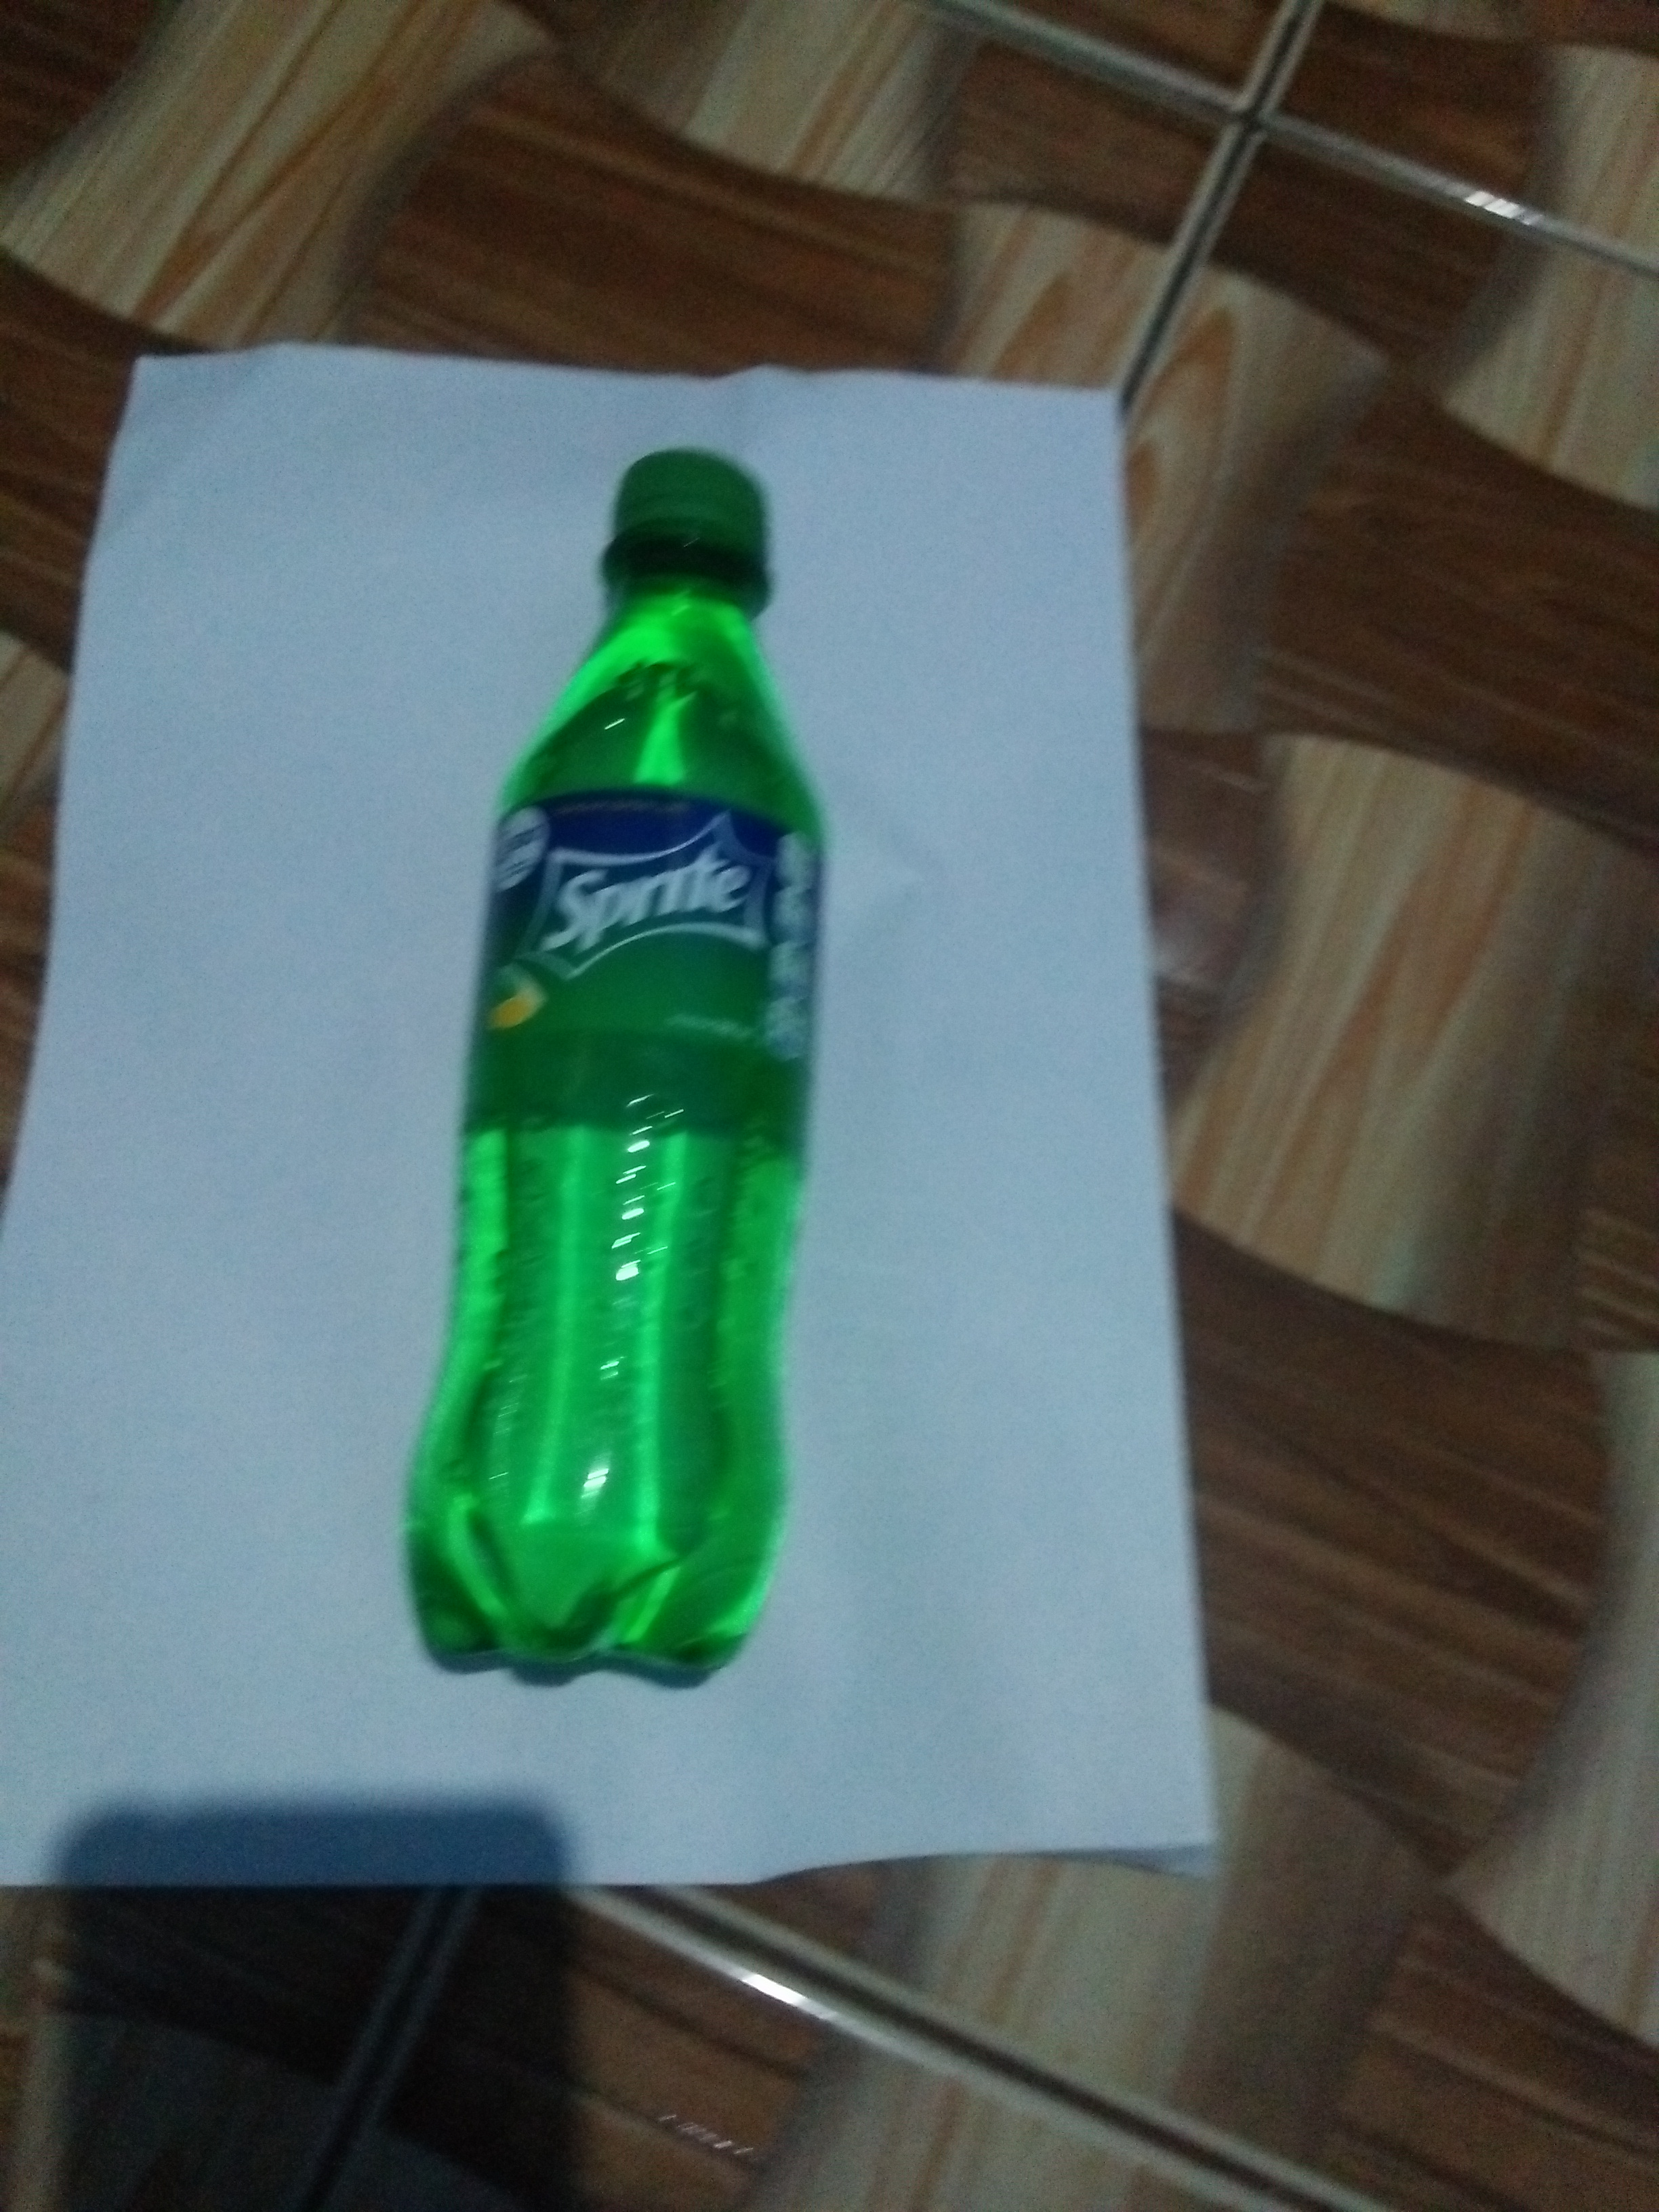Sprite: (396, 444, 857, 1716)
